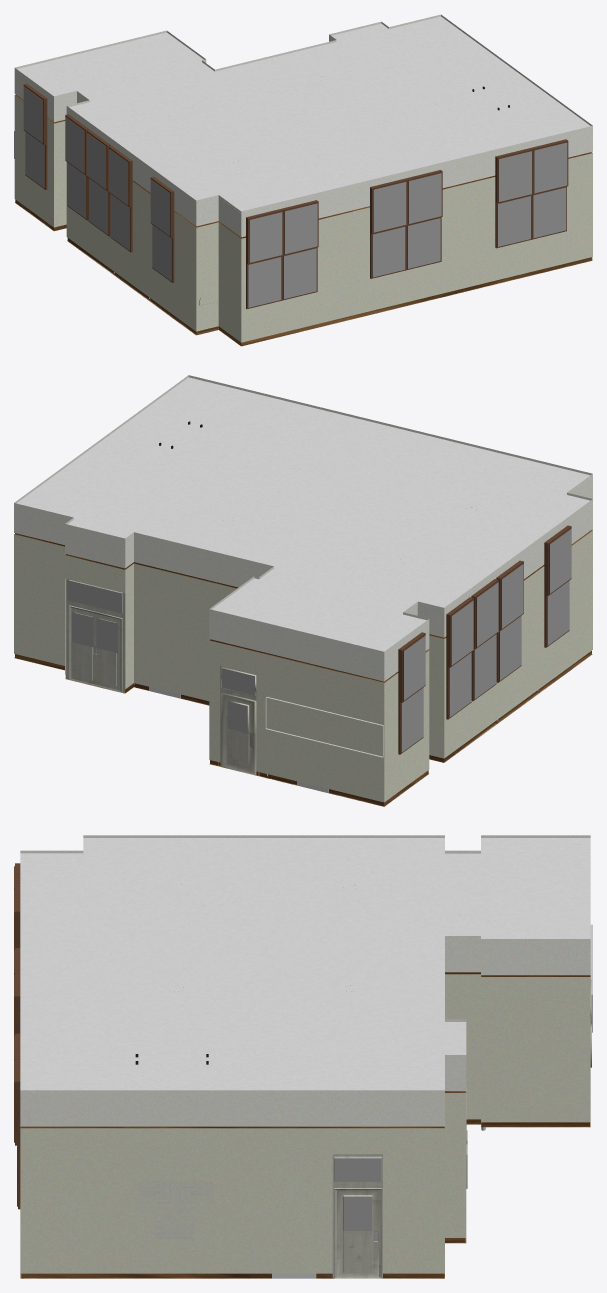
File: homeEcSprintThree.fbx
The picture shows the model from 3 angles, top to bottom: view 1: azimuth 30°, elevation 25°; view 2: azimuth 150°, elevation 25°; view 3: azimuth 270°, elevation 25°; orthographic projection. The views are drawn at different scales.
Parts seen in each view (by area): view 1: ceiling, walls, glass001, windowFrame, floor; view 2: ceiling, walls, glass001, doors001, windowFrame, floor; view 3: ceiling, walls, doors001, cabinets, windowFrame, glass001.
Part boxes in pixels (left/top/right/bottom): ceiling: left=17, top=16, right=590, bottom=211; walls: left=14, top=14, right=592, bottom=345; glass001: left=23, top=87, right=567, bottom=307; windowFrame: left=23, top=83, right=568, bottom=308; floor: left=15, top=202, right=592, bottom=346; ceiling: left=16, top=377, right=589, bottom=651; walls: left=14, top=375, right=592, bottom=806; glass001: left=67, top=529, right=571, bottom=752; doors001: left=65, top=579, right=259, bottom=775; windowFrame: left=398, top=525, right=571, bottom=754; floor: left=14, top=654, right=592, bottom=806; ceiling: left=20, top=838, right=590, bottom=1090; walls: left=20, top=835, right=590, bottom=1278; doors001: left=332, top=979, right=591, bottom=1278; cabinets: left=135, top=924, right=592, bottom=1239; windowFrame: left=14, top=863, right=20, bottom=1209; glass001: left=334, top=1158, right=381, bottom=1230.
Size of the model in its own units: 14.94 by 5.2 by 14.14.
